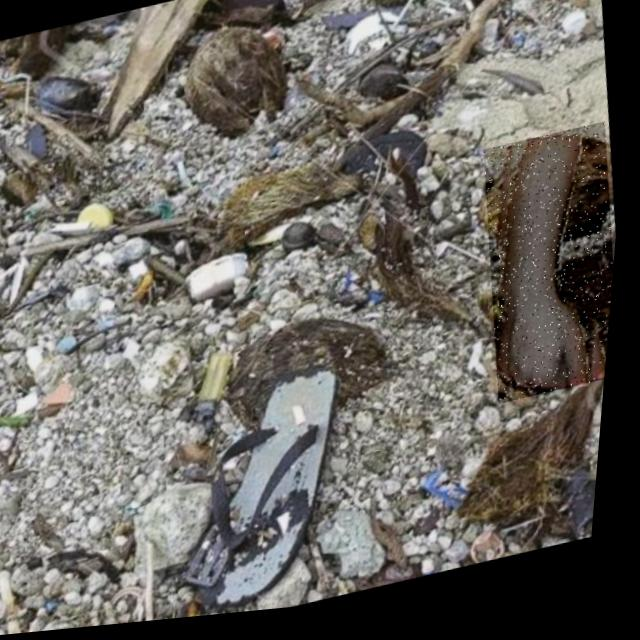Person in Rubble: (470, 133, 628, 417)
